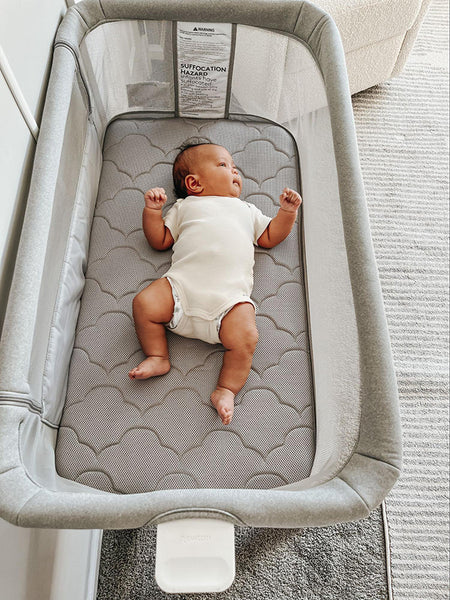baby: (129, 143, 300, 424)
crib: (0, 0, 400, 528)
